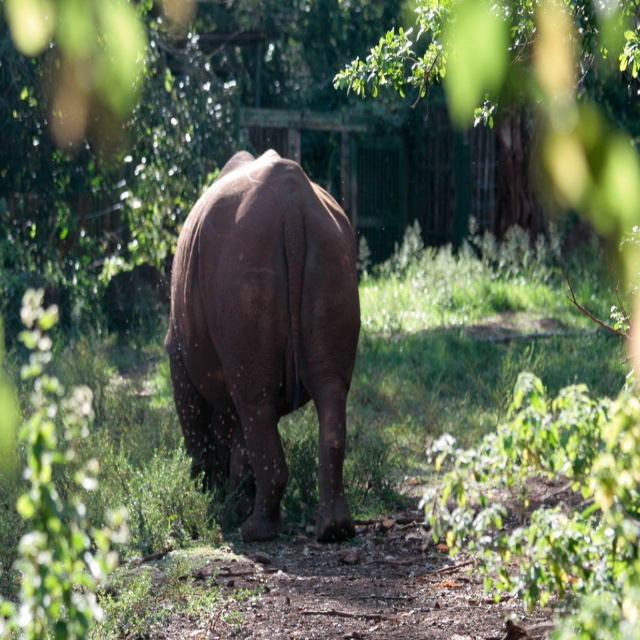Rhinoceros: (157, 141, 365, 544)
